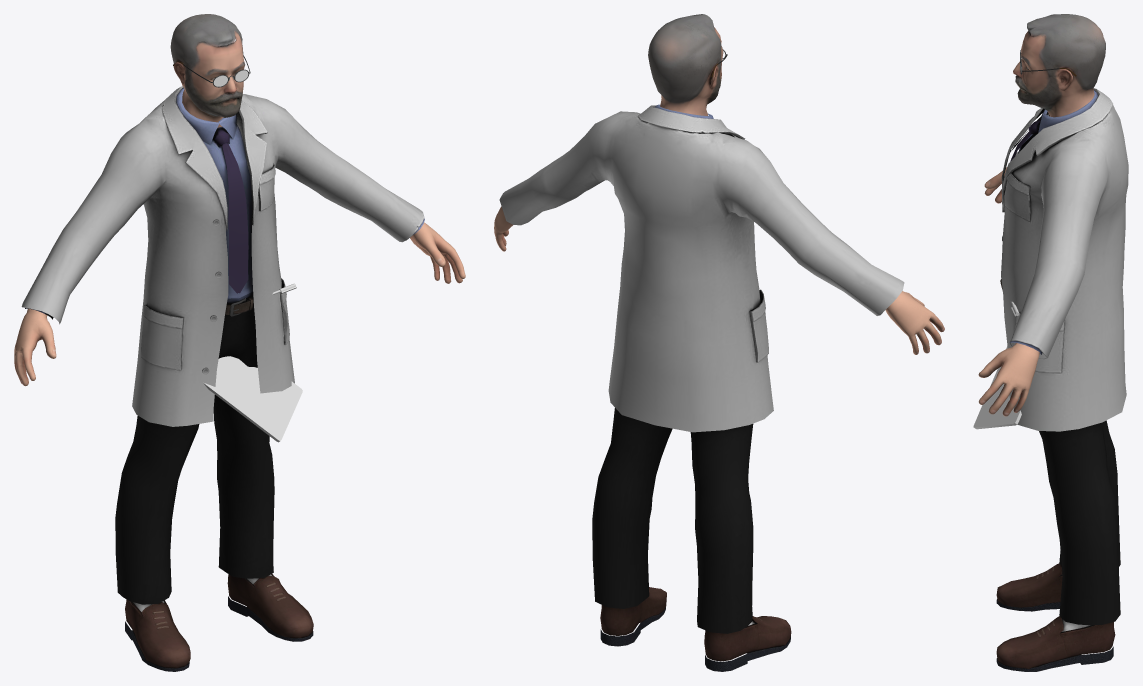
File: doctor.glb
3 views of the same model, side by side, from view 1: azimuth 30°, elevation 25°; view 2: azimuth 150°, elevation 25°; view 3: azimuth 270°, elevation 25° (orthographic).
Parts seen in each view (by area): view 1: _rootJoint, pad; view 2: _rootJoint; view 3: _rootJoint, pad.
Boxes of the visible parts, x1,y1,x2,y2 form: _rootJoint: (14,14,465,671); pad: (203,356,302,442); _rootJoint: (494,14,944,671); _rootJoint: (978,14,1128,671); pad: (973,346,1021,429).
Size of the model in its own units: 236 by 315 by 72.05.
4 materials, 2 textured.
